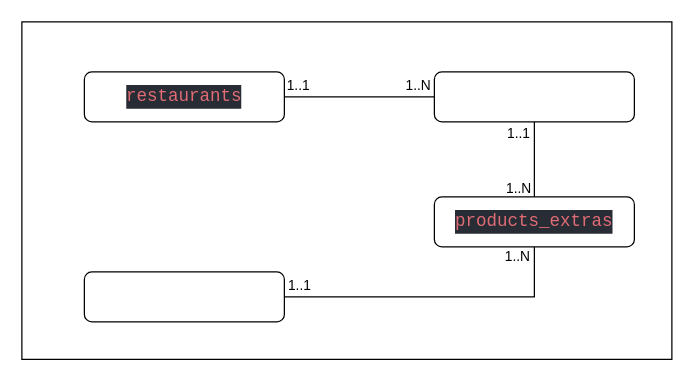
The diagram is 694 pixels wide and 381 high, and some of its shapes have lost their labels. The shapes that lost their labels are listed below. From the top down, each one's centre as x and y in pixels, then its label:
At point (533, 96): "products".
At point (183, 296): "additional".
